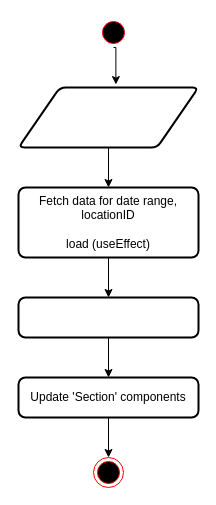
This 216x505 diagram has some shape labels left out. The shapes that lost their labels are listed below. From the top down, each one's box as (x1, y1, x2, y2) in pixels, then its label:
(17, 86, 199, 148): Set Company, Location, Review Date
(17, 296, 199, 338): Update state variables (eg: meta)
